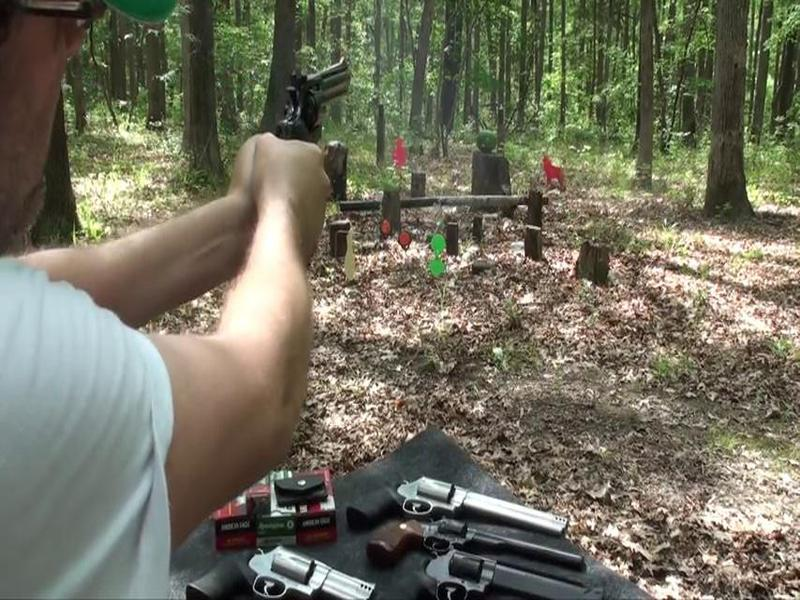Revolver: (266, 42, 366, 158)
